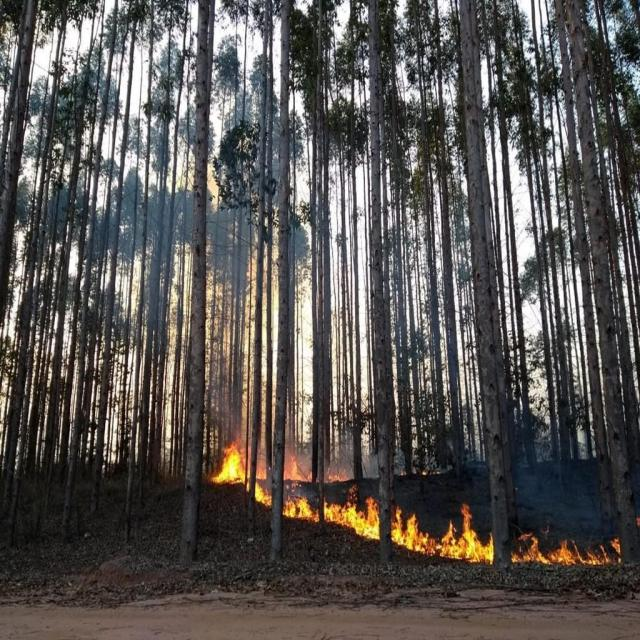Fire: (207, 438, 627, 572)
